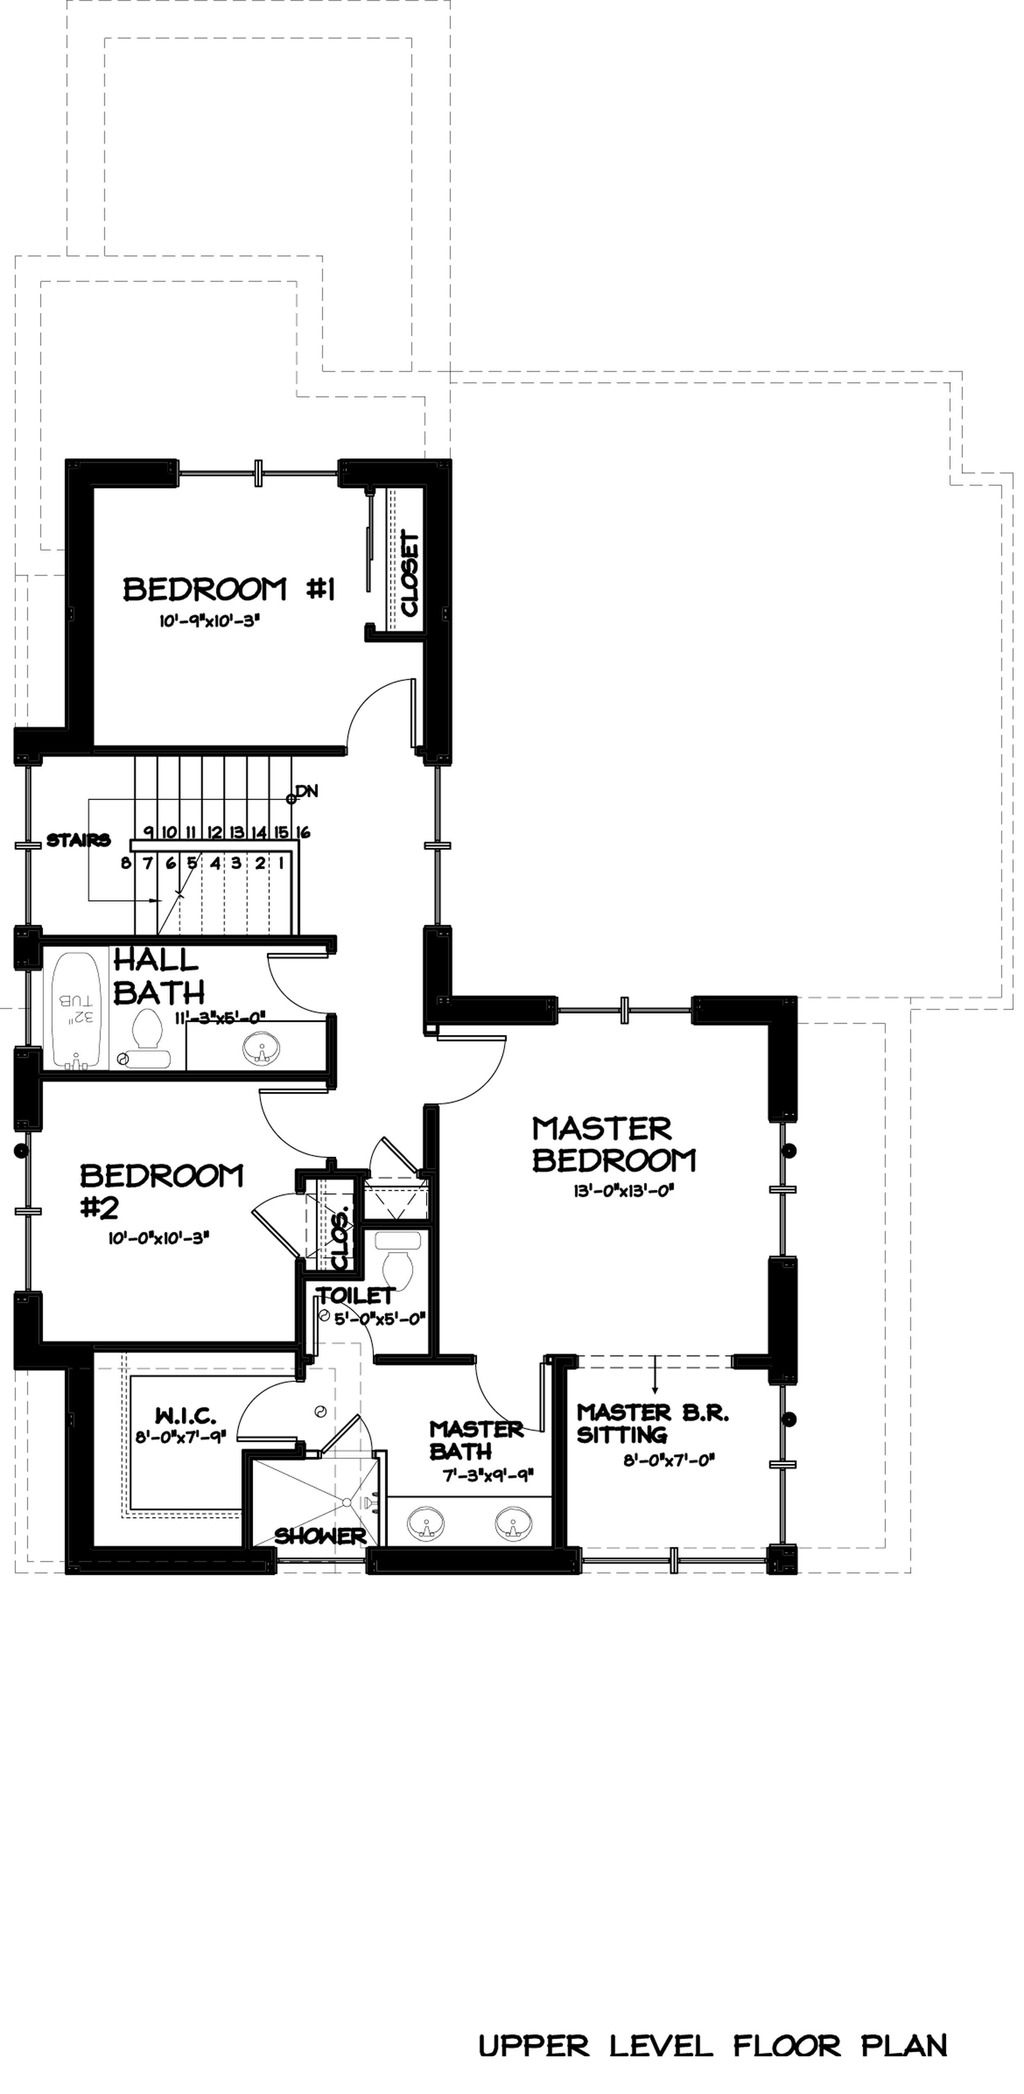door: (455, 1351, 571, 1436), (246, 1074, 352, 1162), (339, 668, 433, 765), (255, 941, 359, 1020), (220, 1368, 323, 1440), (426, 1026, 501, 1107), (226, 1191, 320, 1249), (352, 1132, 433, 1185)
large_sink: (359, 1213, 433, 1303), (113, 1003, 166, 1074)
small_sink: (391, 1468, 567, 1565), (207, 1023, 323, 1080)
stairs: (25, 752, 320, 929)
tub: (33, 929, 93, 1068)
window: (168, 449, 339, 513), (591, 1538, 778, 1587), (749, 1126, 813, 1255)
